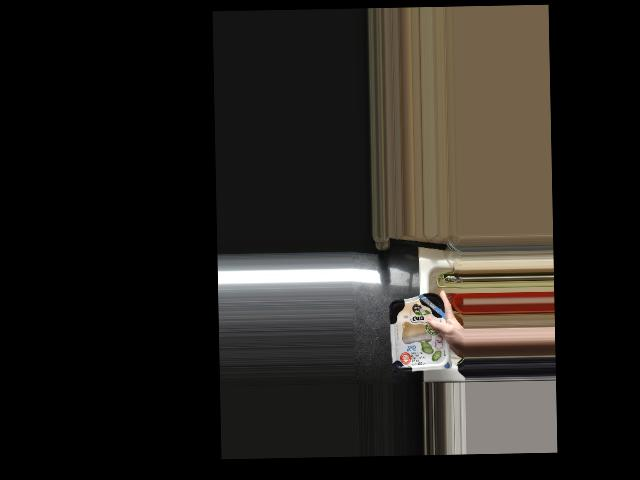cheese: (389, 292, 451, 369)
